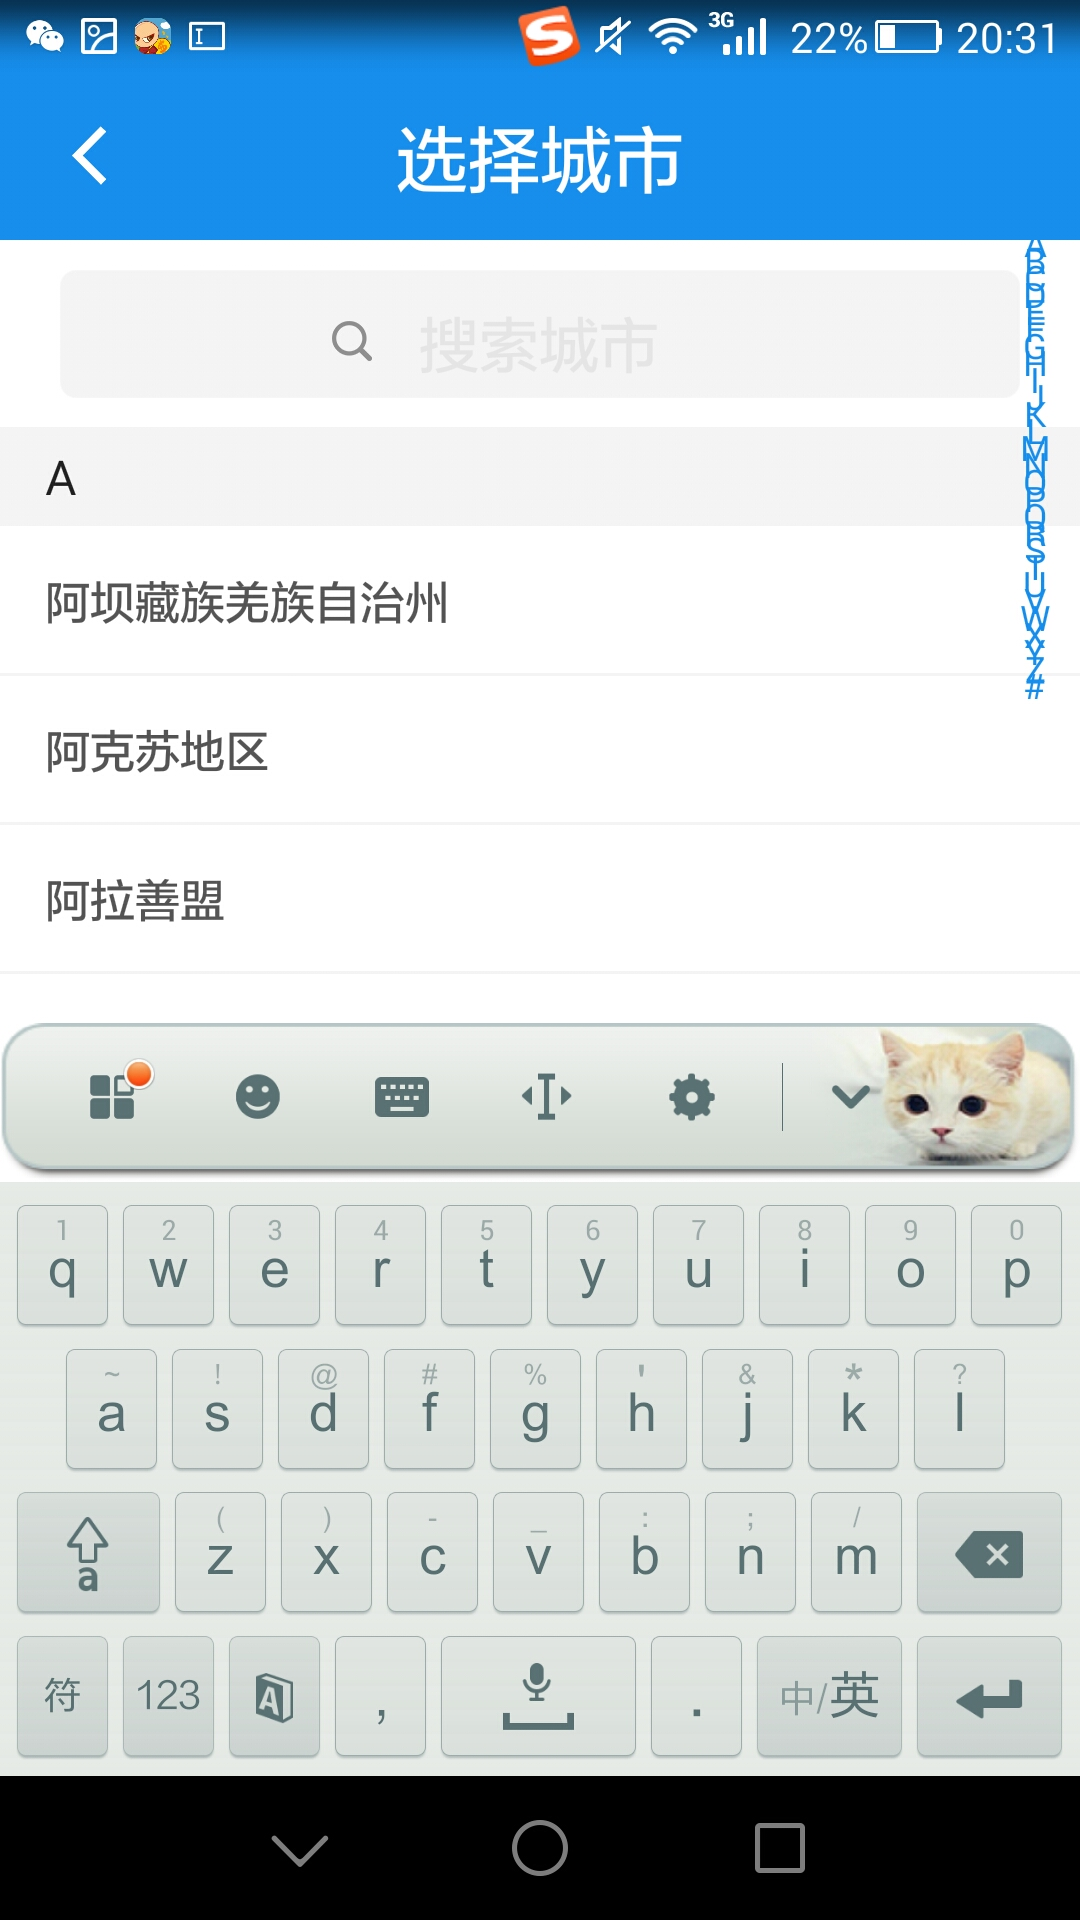textview: (12, 531, 1063, 982)
